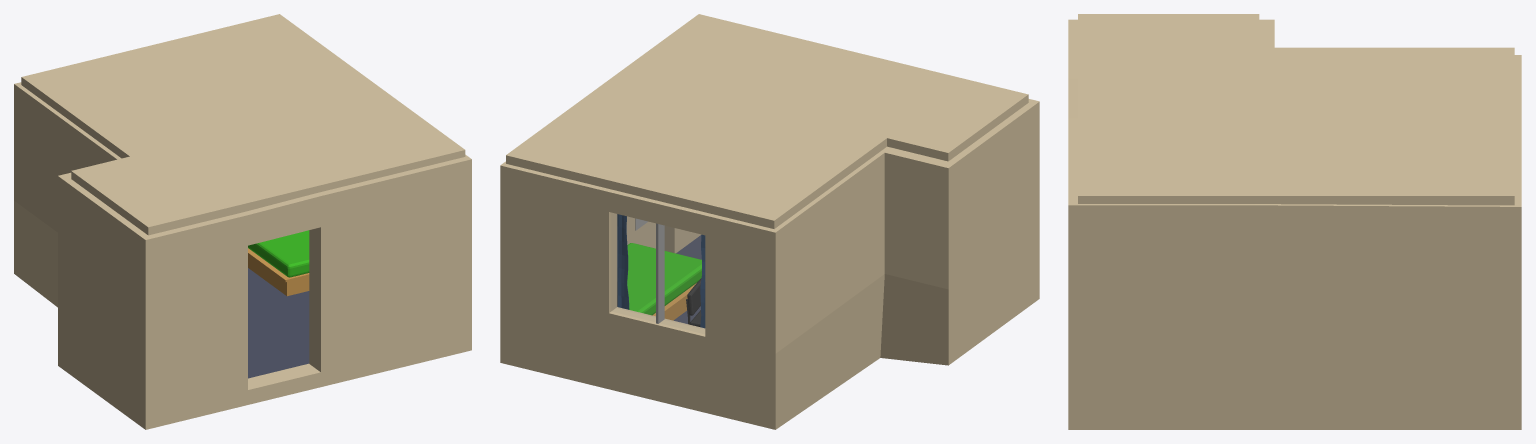
Rendered from room.glb.
The picture shows the model from 3 angles, left to right: view 1: azimuth 30°, elevation 25°; view 2: azimuth 150°, elevation 25°; view 3: azimuth 270°, elevation 25°; orthographic projection. The views are drawn at different scales.
Parts seen in each view (by area): view 1: Room, Floor.001, Floor, Mattress, Bed Bottom; view 2: Room, Floor.001, Cube.002, Mattress, Curtains, Cube.003, Floor; view 3: Room, Floor.001.
Boxes of the visible parts, x1,y1,x2,y2 form: Room: [14, 82, 471, 429]; Floor.001: [21, 14, 465, 235]; Floor: [248, 268, 309, 378]; Mattress: [248, 230, 309, 277]; Bed Bottom: [248, 248, 309, 296]; Room: [500, 99, 1039, 429]; Floor.001: [506, 14, 1028, 228]; Cube.002: [616, 214, 704, 328]; Mattress: [627, 243, 701, 315]; Curtains: [617, 214, 705, 328]; Cube.003: [656, 223, 664, 323]; Floor: [673, 235, 701, 323]; Room: [1068, 19, 1521, 429]; Floor.001: [1078, 14, 1514, 205].
Size of the model in its own units: 7.75 by 4.76 by 7.94.
